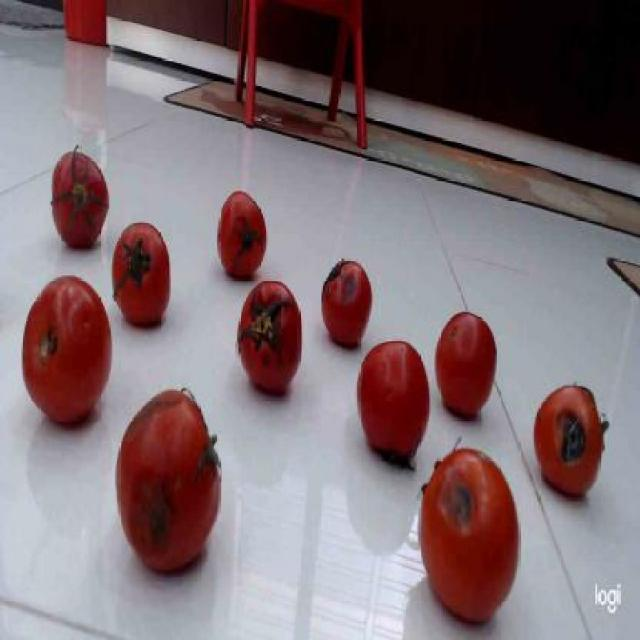tomato: (117, 388, 220, 574), (419, 448, 519, 623), (23, 276, 110, 427), (358, 340, 430, 469), (534, 386, 608, 498), (238, 282, 301, 395), (435, 312, 496, 420), (113, 223, 170, 328), (51, 147, 109, 249), (217, 191, 266, 281), (322, 260, 371, 348)
